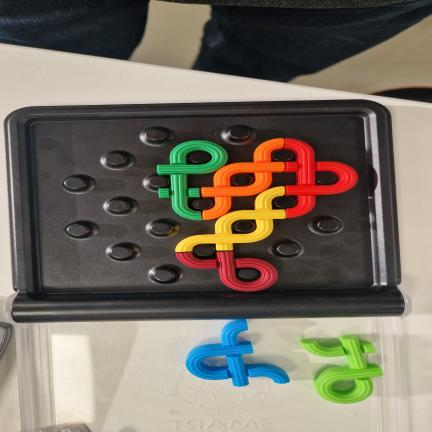A_Yellow: (176, 187, 286, 252)
D_Green: (157, 141, 227, 220)
E_Red: (283, 139, 357, 218)
I_Orange: (201, 139, 285, 219)
J_DarkRed: (176, 251, 278, 291)
board: (5, 100, 405, 322)
hinge: (2, 289, 418, 318)
pin: (272, 195, 297, 209), (228, 126, 250, 141), (144, 128, 167, 142), (230, 173, 254, 186), (188, 151, 211, 164), (63, 177, 86, 190), (66, 224, 89, 237), (317, 219, 340, 232), (272, 149, 294, 162), (234, 220, 256, 233), (277, 243, 299, 256), (105, 153, 126, 166), (148, 175, 169, 188), (316, 172, 337, 185), (151, 222, 172, 235), (194, 244, 215, 257), (110, 247, 132, 259), (153, 269, 175, 281), (238, 268, 260, 280), (192, 198, 213, 210), (108, 200, 129, 212)
